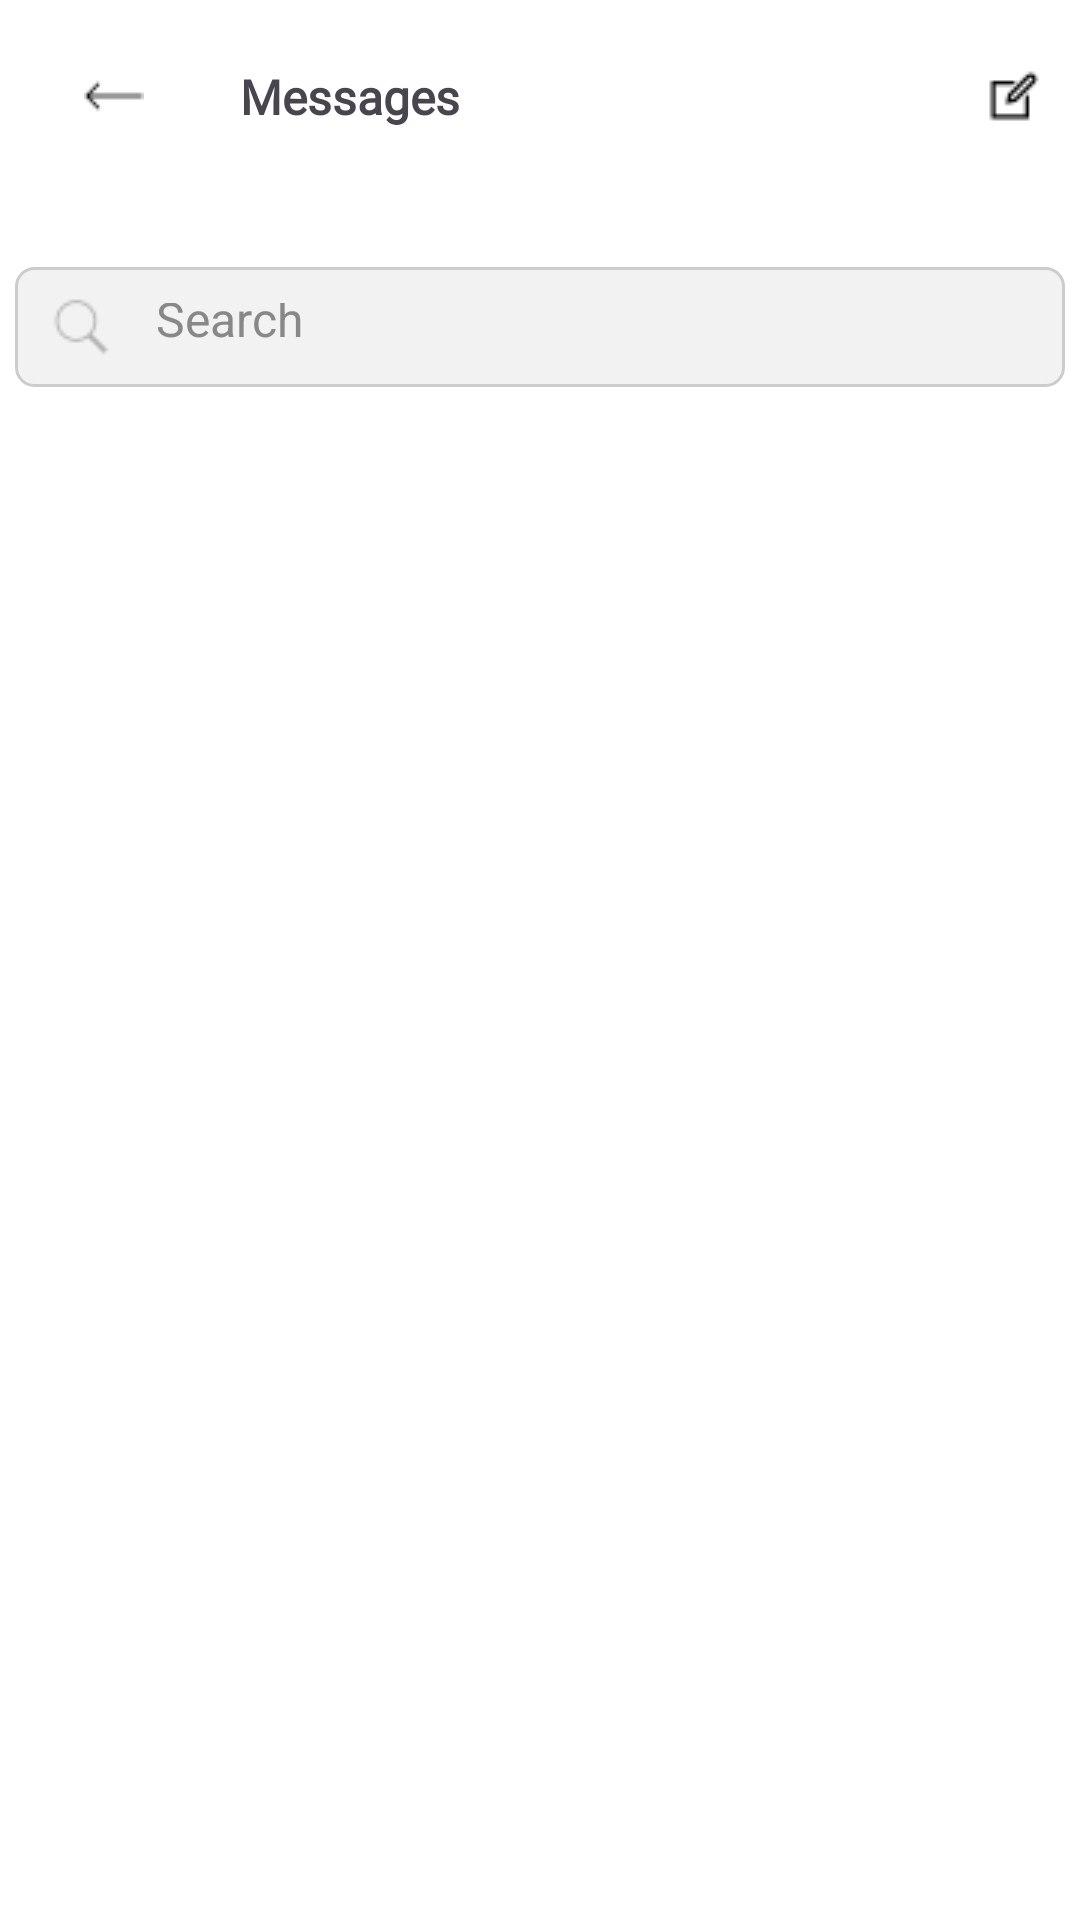

Where icons sit on this 1080×1920 app screen, as [x1,y1,x2,y2]:
back arrow: [84,81,144,111]
edit: [989,71,1039,121]
